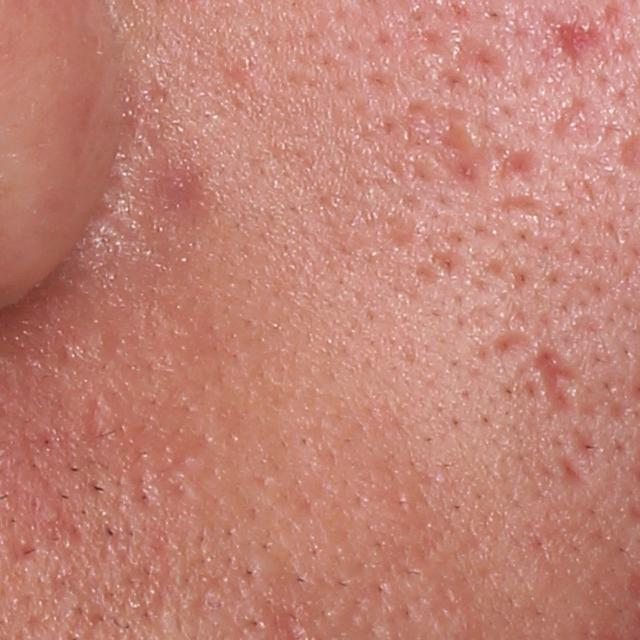atrophic_scar: (443, 125, 503, 199), (447, 22, 514, 88), (557, 13, 608, 76), (534, 348, 578, 417), (554, 446, 595, 500), (492, 330, 542, 365), (493, 187, 553, 216), (493, 145, 544, 177)
